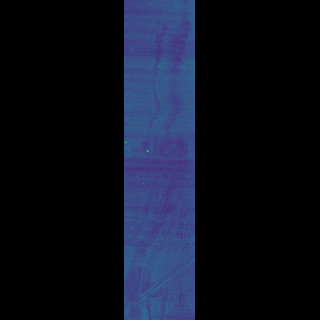Loch: (151, 174, 168, 320), (156, 17, 168, 161)
